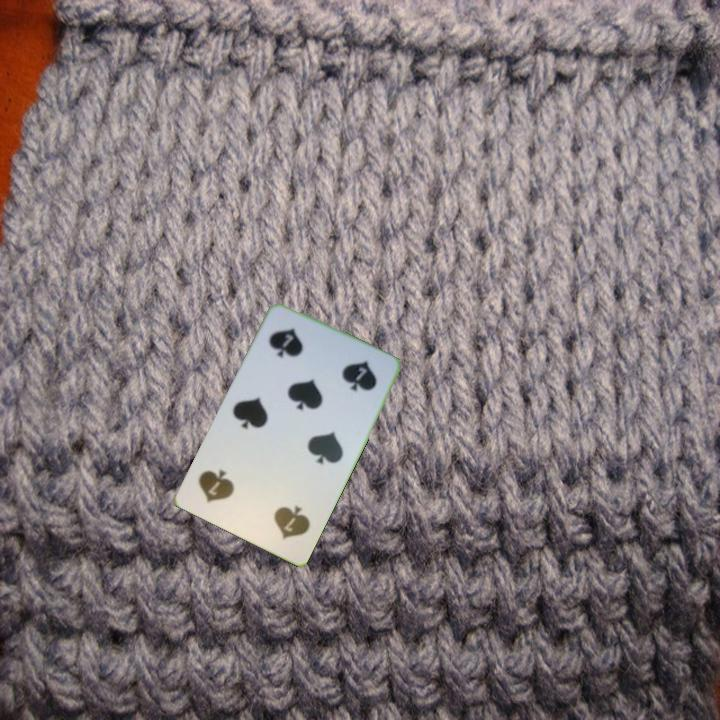s_7.png: (240, 475, 324, 555), (254, 310, 337, 390)
